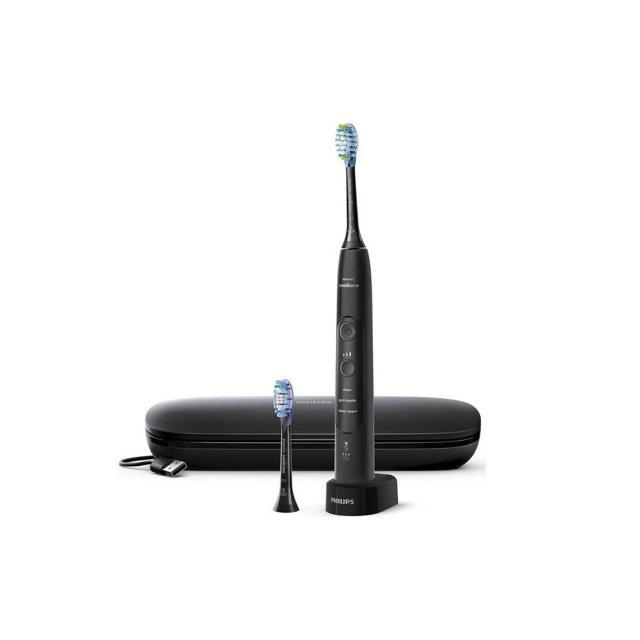toothbrush: (319, 119, 405, 519)
